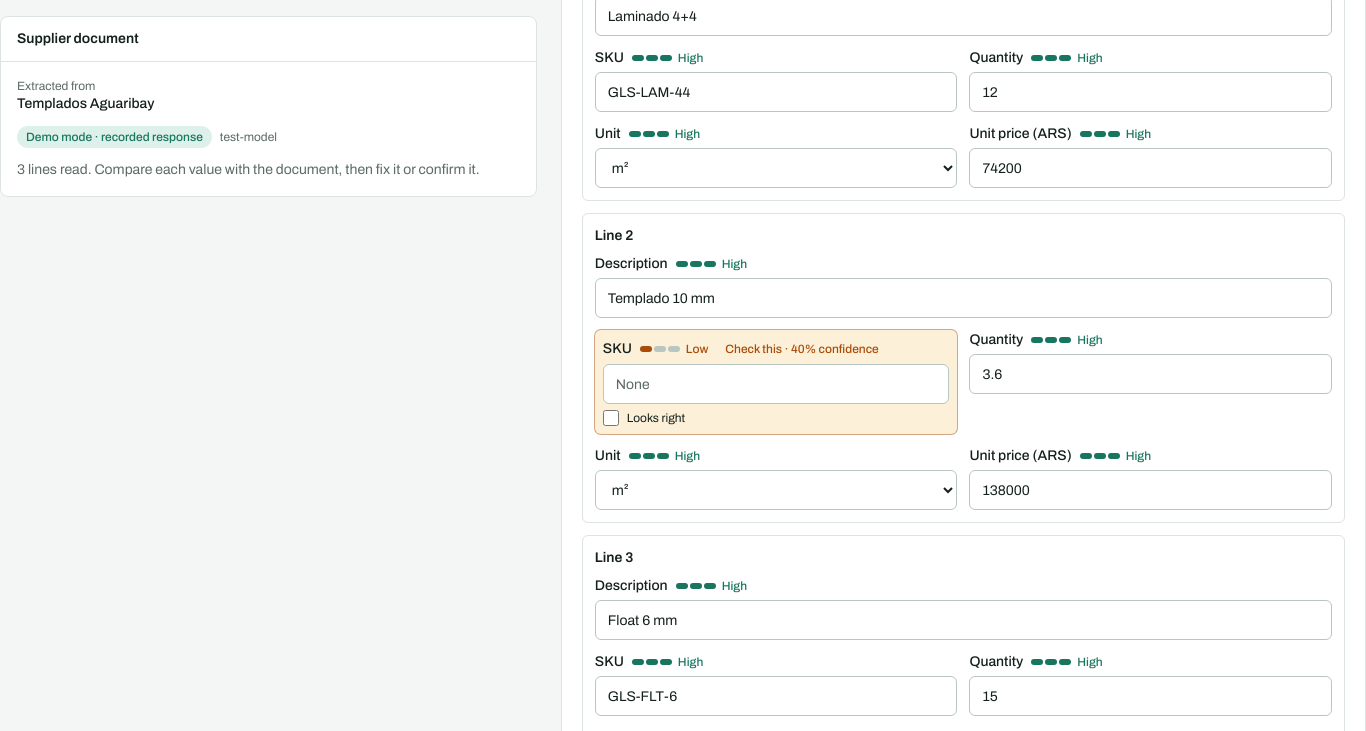
Scenario: ReviewForm › counts editing a flagged value as checking it
(page scrolled)
Type "GLS-TMP-10" into the field labelled "SKU Low Check this · 40% confidence". click: (776, 384)
box: top-left (603, 364), bottom-right (949, 404)
(page scrolled)
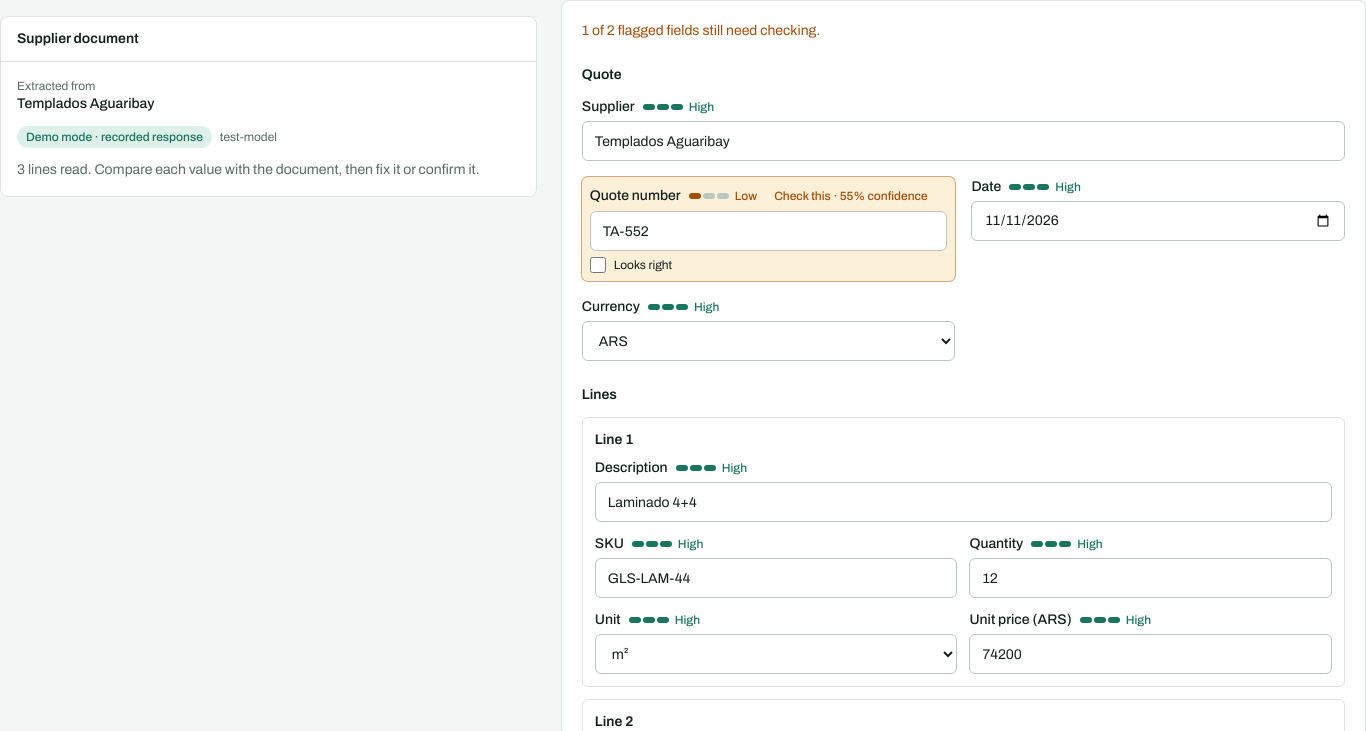
Now the message shows "1 of 2 flagged fields still need checking", box top-left (582, 23), bottom-right (820, 38)
